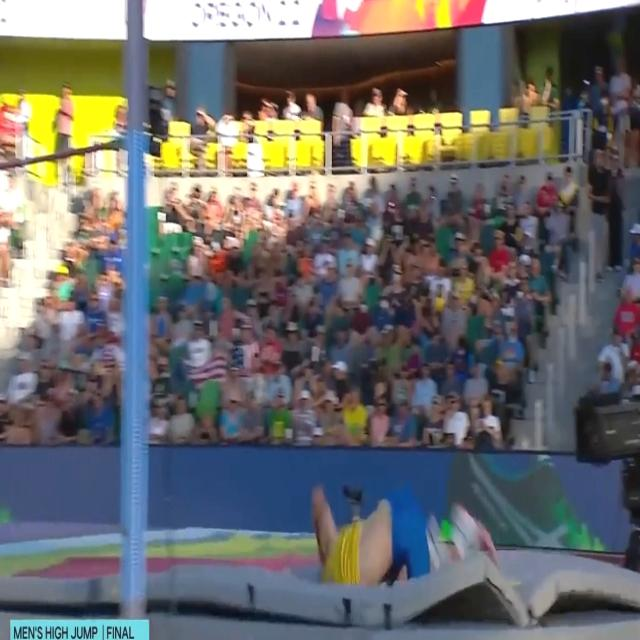land: (310, 476, 500, 586)
